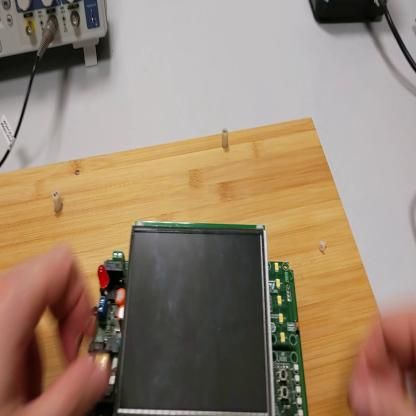hand: (2, 243, 113, 416), (350, 309, 416, 414)
low voltage board: (91, 221, 310, 413)
oscilloscope: (3, 4, 109, 69)
welder station: (311, 1, 388, 25)
working area: (4, 119, 382, 413)
